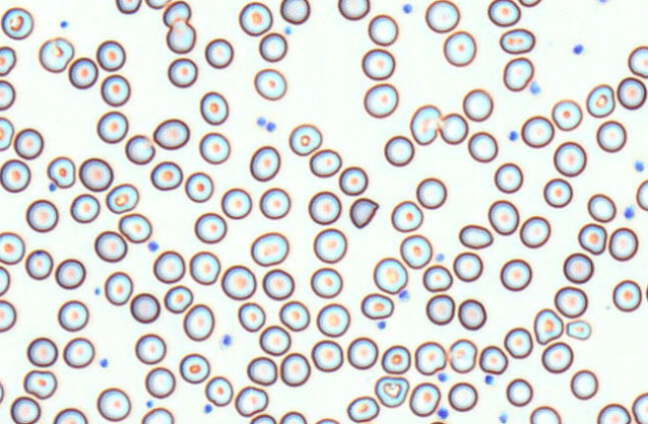PLT: (528, 81, 541, 98), (264, 121, 278, 135), (624, 206, 637, 220), (634, 159, 647, 173), (482, 374, 497, 386), (222, 333, 233, 347), (376, 320, 388, 332), (401, 4, 413, 16), (147, 240, 158, 253), (202, 404, 214, 415), (400, 290, 412, 301), (437, 369, 448, 381), (498, 413, 510, 424), (508, 129, 518, 142), (573, 44, 586, 54), (45, 183, 56, 194), (438, 407, 449, 418), (144, 399, 154, 409), (436, 252, 446, 262), (99, 357, 108, 368), (257, 116, 267, 125), (60, 20, 68, 28), (94, 287, 101, 295)
RBC: (250, 231, 289, 266), (409, 104, 441, 145), (38, 36, 74, 72), (373, 256, 407, 294), (221, 264, 256, 300), (363, 82, 398, 118), (313, 227, 347, 263), (96, 387, 131, 421), (238, 1, 272, 36), (316, 302, 350, 337), (78, 157, 113, 191), (443, 30, 476, 66), (553, 141, 586, 177), (183, 303, 214, 341), (487, 199, 519, 235), (425, 0, 459, 33), (308, 190, 341, 224), (399, 234, 432, 268), (520, 115, 554, 148), (374, 375, 409, 407), (502, 56, 534, 91), (249, 145, 280, 181), (153, 118, 189, 149), (0, 6, 33, 39), (554, 285, 587, 318), (499, 258, 532, 291), (25, 199, 58, 232), (234, 385, 268, 417), (414, 341, 446, 375), (288, 123, 322, 155), (361, 48, 395, 80), (409, 382, 440, 417), (189, 250, 220, 285), (311, 339, 343, 372), (94, 230, 127, 262), (253, 68, 286, 100), (390, 200, 423, 232), (346, 336, 378, 369), (153, 250, 185, 283), (96, 110, 128, 143), (0, 158, 31, 192), (279, 352, 310, 386), (118, 212, 152, 243), (447, 338, 477, 373), (608, 226, 638, 261), (585, 83, 615, 118), (415, 177, 447, 209), (541, 341, 573, 373), (262, 268, 294, 300), (57, 299, 89, 331), (519, 215, 550, 248), (462, 88, 493, 121), (199, 131, 230, 164), (166, 19, 196, 53), (23, 369, 57, 399), (105, 183, 139, 213), (259, 324, 291, 355), (144, 366, 175, 398), (26, 336, 58, 367), (310, 267, 342, 298), (367, 14, 398, 46), (221, 187, 252, 219), (259, 187, 290, 219), (194, 212, 226, 243), (551, 99, 582, 131), (612, 279, 642, 312), (68, 56, 98, 89), (46, 155, 76, 188), (616, 76, 646, 109), (104, 271, 133, 305), (199, 91, 228, 125), (179, 352, 210, 383), (63, 337, 94, 368), (135, 333, 166, 364), (279, 300, 310, 331), (562, 252, 593, 283), (452, 251, 483, 282), (467, 131, 498, 162), (438, 112, 468, 144), (425, 293, 455, 325), (503, 326, 533, 358), (577, 222, 607, 254), (150, 160, 182, 190), (13, 127, 43, 159), (100, 74, 130, 106), (596, 120, 626, 152), (499, 28, 535, 54), (130, 292, 160, 323), (69, 193, 100, 223), (55, 258, 85, 289), (384, 135, 414, 166), (493, 162, 523, 193), (309, 148, 341, 177), (457, 298, 486, 330), (96, 39, 125, 71), (458, 223, 493, 249), (125, 134, 155, 164), (447, 381, 477, 411), (338, 165, 368, 195), (167, 57, 197, 87), (204, 375, 233, 406), (246, 356, 277, 385), (184, 171, 213, 202), (543, 177, 572, 208), (204, 37, 233, 68), (360, 292, 393, 319), (346, 395, 379, 422), (487, 0, 520, 27), (163, 284, 193, 313), (258, 32, 287, 62), (478, 345, 508, 374), (381, 344, 410, 374), (10, 395, 41, 423), (237, 301, 265, 332), (570, 369, 598, 400), (587, 193, 616, 222), (25, 249, 53, 279), (422, 264, 452, 292), (0, 231, 25, 264), (505, 377, 533, 406), (279, 0, 310, 24), (596, 403, 631, 423), (627, 45, 647, 78), (337, 0, 370, 20), (529, 405, 561, 423), (141, 406, 174, 423), (53, 407, 87, 423), (0, 299, 16, 332), (631, 392, 647, 423), (0, 45, 16, 76), (0, 116, 14, 151), (0, 79, 15, 110), (115, 0, 141, 14), (636, 179, 647, 211), (279, 410, 306, 423), (0, 265, 10, 296), (249, 413, 276, 423), (144, 0, 169, 9), (518, 0, 542, 7), (314, 417, 340, 423), (427, 419, 447, 424), (0, 379, 4, 403), (645, 279, 648, 302)
Schistocyte: (534, 308, 563, 344), (351, 198, 379, 229), (160, 1, 191, 25), (567, 320, 593, 341)
